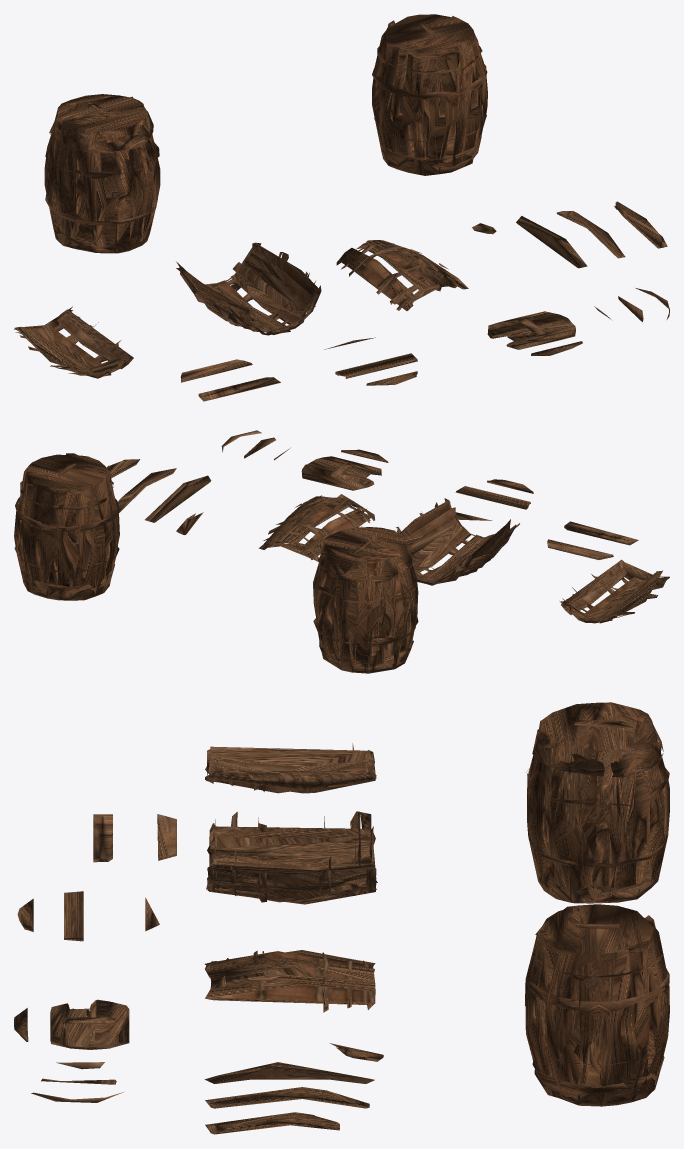
Rendered from barrels.glb.
3 views of the same model, one above another, from view 1: azimuth 30°, elevation 25°; view 2: azimuth 150°, elevation 25°; view 3: azimuth 270°, elevation 25° (orthographic). The views are drawn at different scales.
Bounding box in the file's own units: 4.42 × 0.9322 × 3.33.
Materials: 3 (3 with a texture image).
